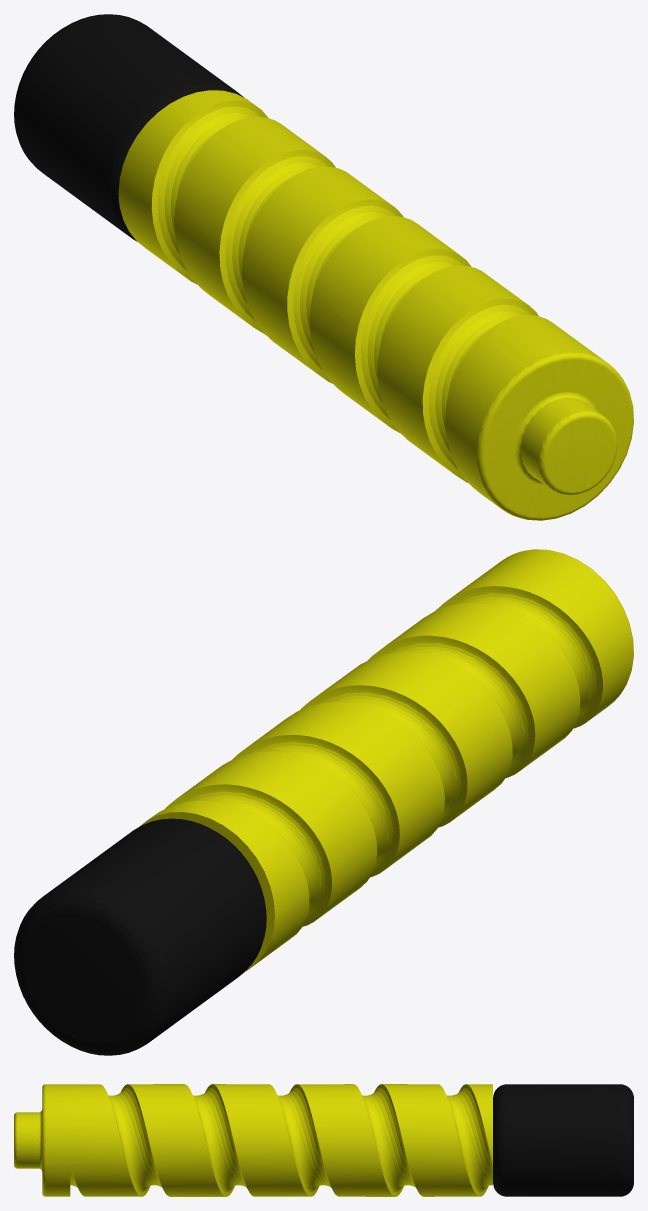
Rendered from toner-4.dae.
3 views of the same model, one above another, from view 1: azimuth 30°, elevation 25°; view 2: azimuth 150°, elevation 25°; view 3: azimuth 270°, elevation 25° (orthographic). The views are drawn at different scales.
Parts seen in each view (by area): view 1: pivot31, pivot32; view 2: pivot31, pivot32; view 3: pivot31, pivot32.
Part boxes in pixels (<box>): pivot31: <box>118,90,633,520</box>; pivot32: <box>14,14,244,241</box>; pivot31: <box>139,549,633,971</box>; pivot32: <box>14,818,266,1055</box>; pivot31: <box>14,1084,492,1196</box>; pivot32: <box>493,1084,633,1196</box>.
Bounding box in the file's own units: 11.34 × 11.34 × 62.36.
